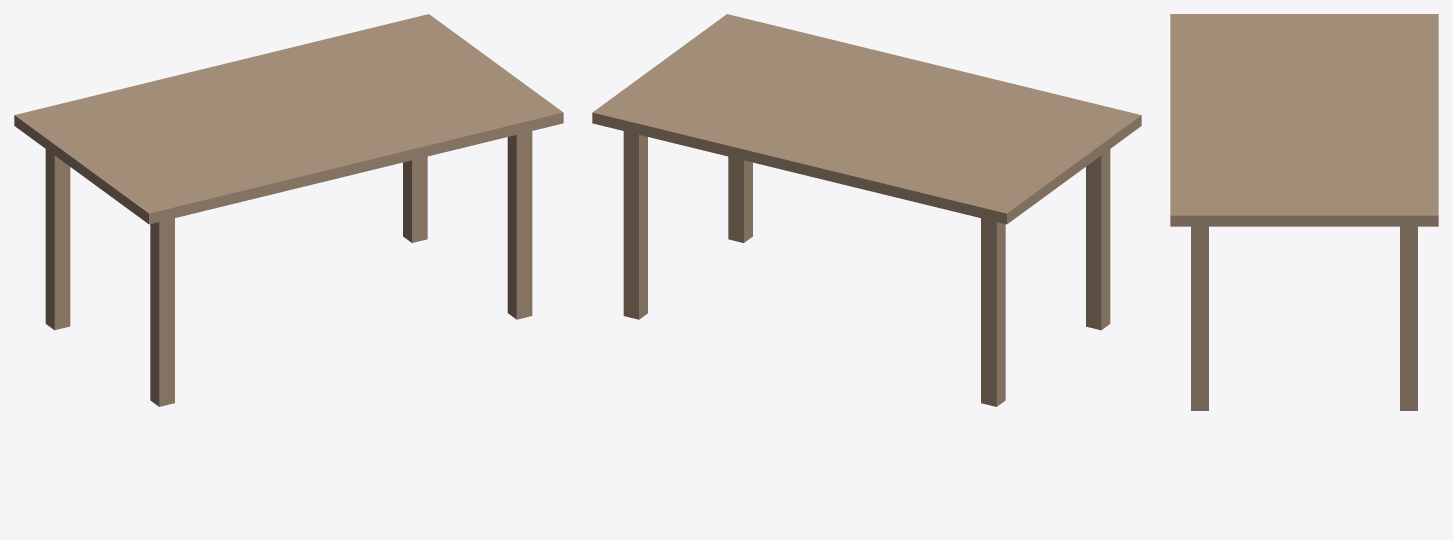
Rendered from table.glb.
3 views of the same model, side by side, from view 1: azimuth 30°, elevation 25°; view 2: azimuth 150°, elevation 25°; view 3: azimuth 270°, elevation 25° (orthographic).
Bounding box in the file's own units: 1.6 × 1.52 × 0.9.
